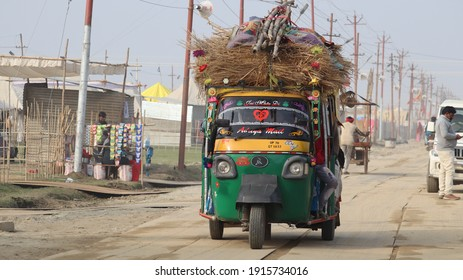threewheel: (203, 86, 342, 250)
